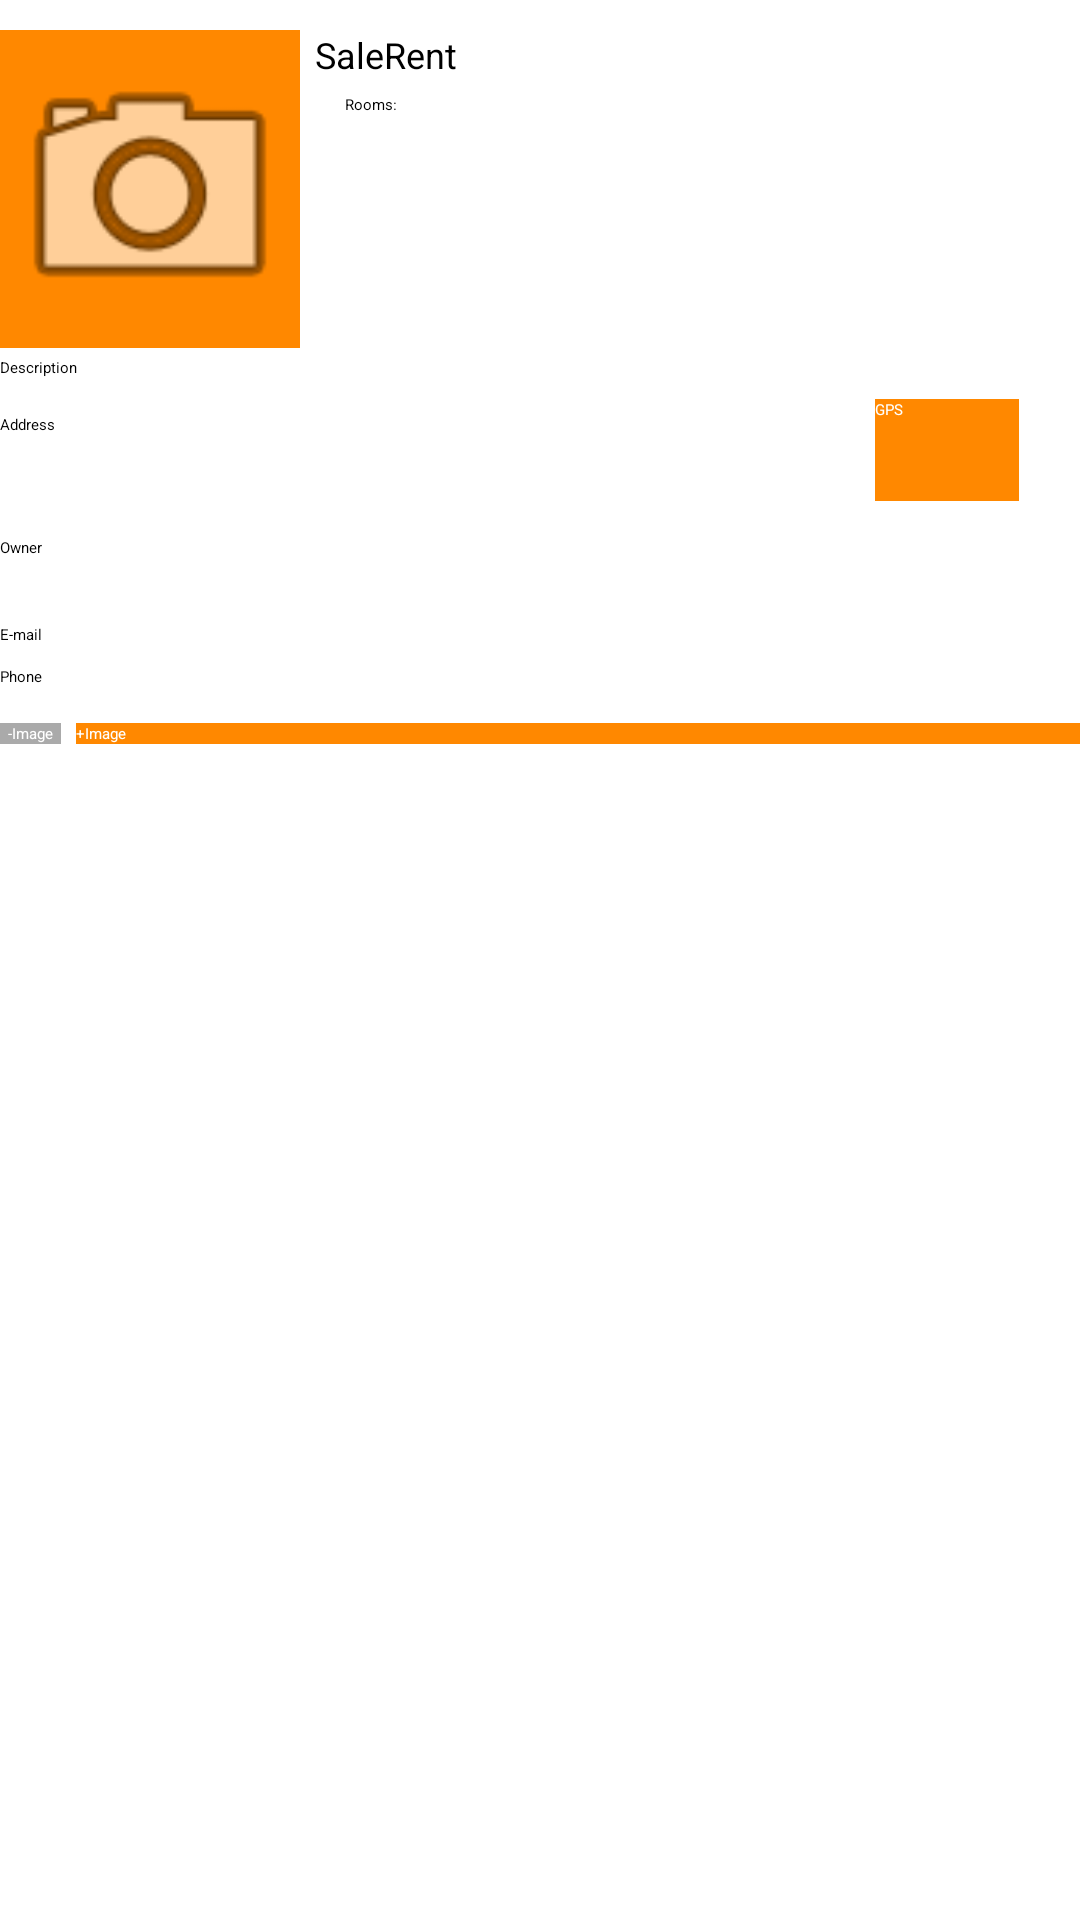

Where to tap for icons on this 1080 x 1920 app screen, as (x,y):
camera: (150,189)
